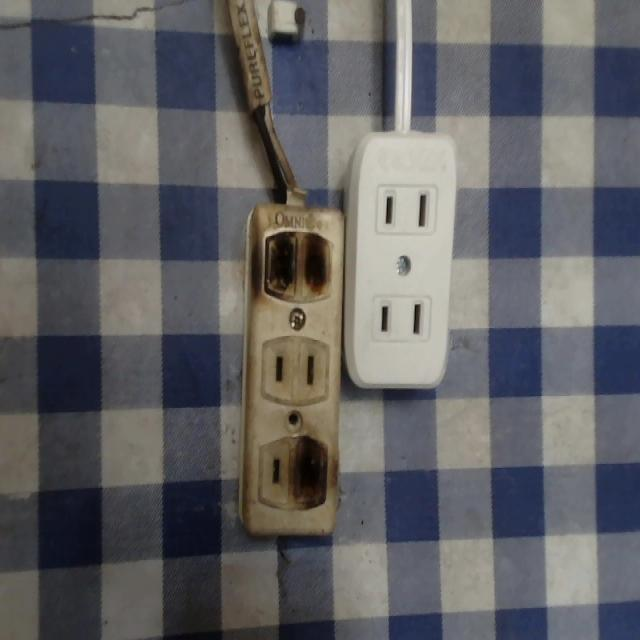-: (260, 227, 334, 308), (288, 435, 327, 505)
